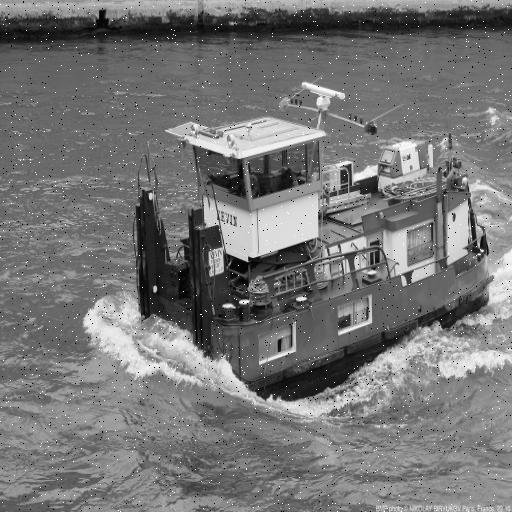tugboat: (136, 76, 497, 419)
